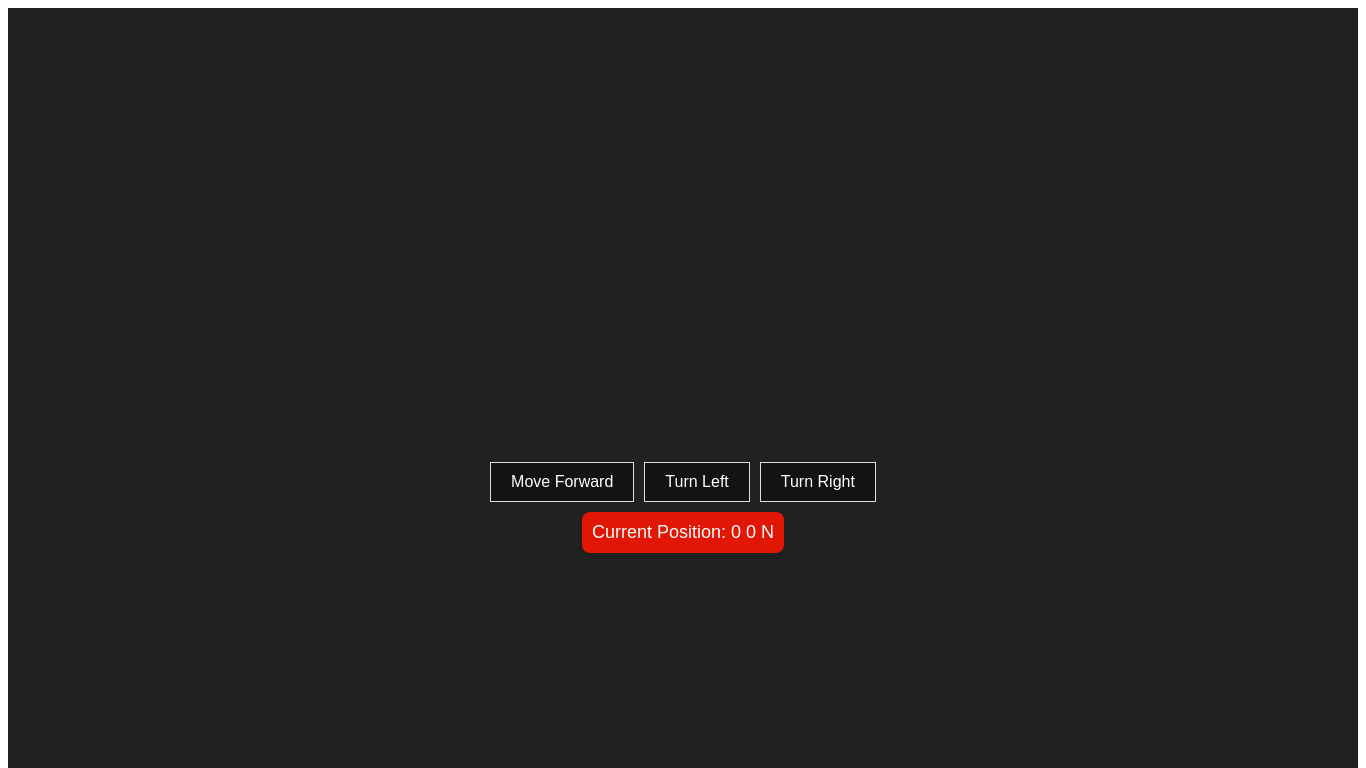
Test: Board Component › moves the robot forward
Click the button "Move Forward": (562, 482) 490,462 -> 634,502
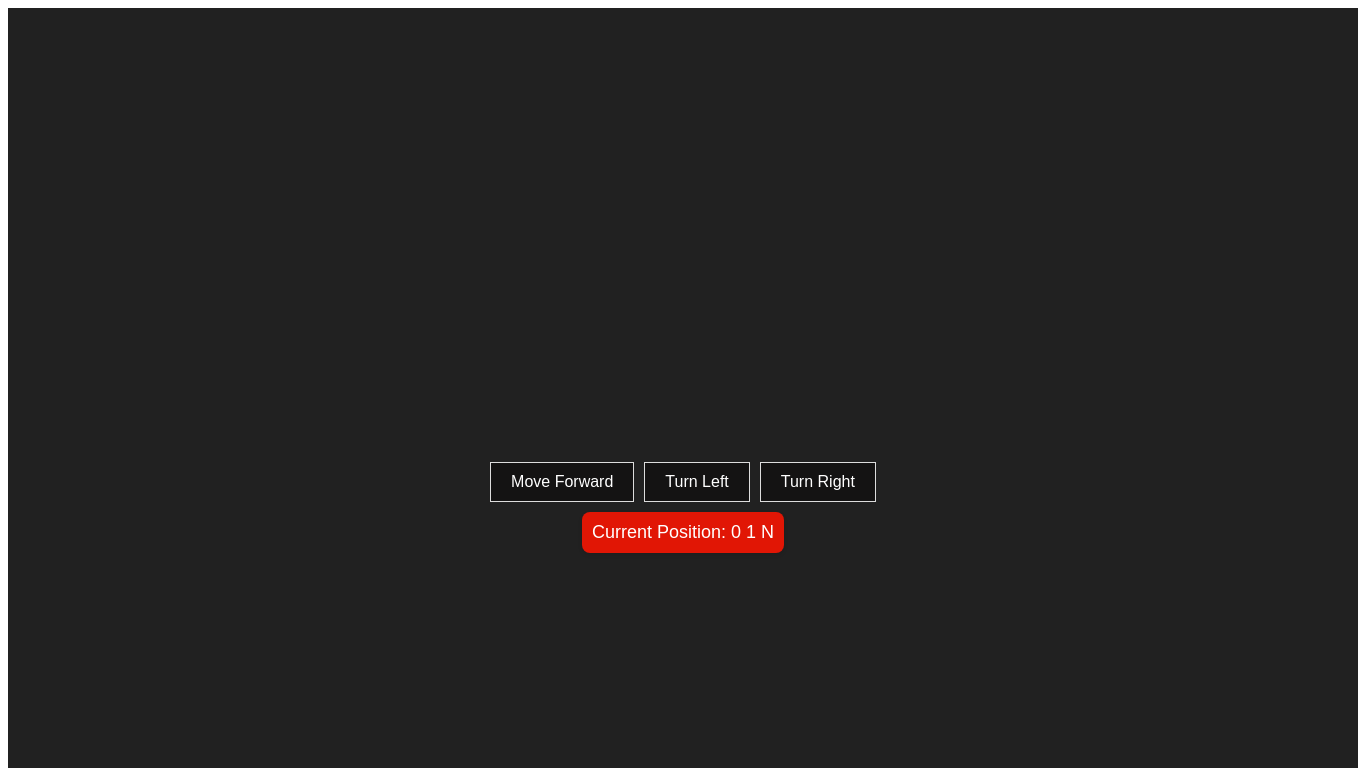
Check: the text with test id "current-position" reads "Current Position: 0 1 N", box 582,512 -> 784,553
